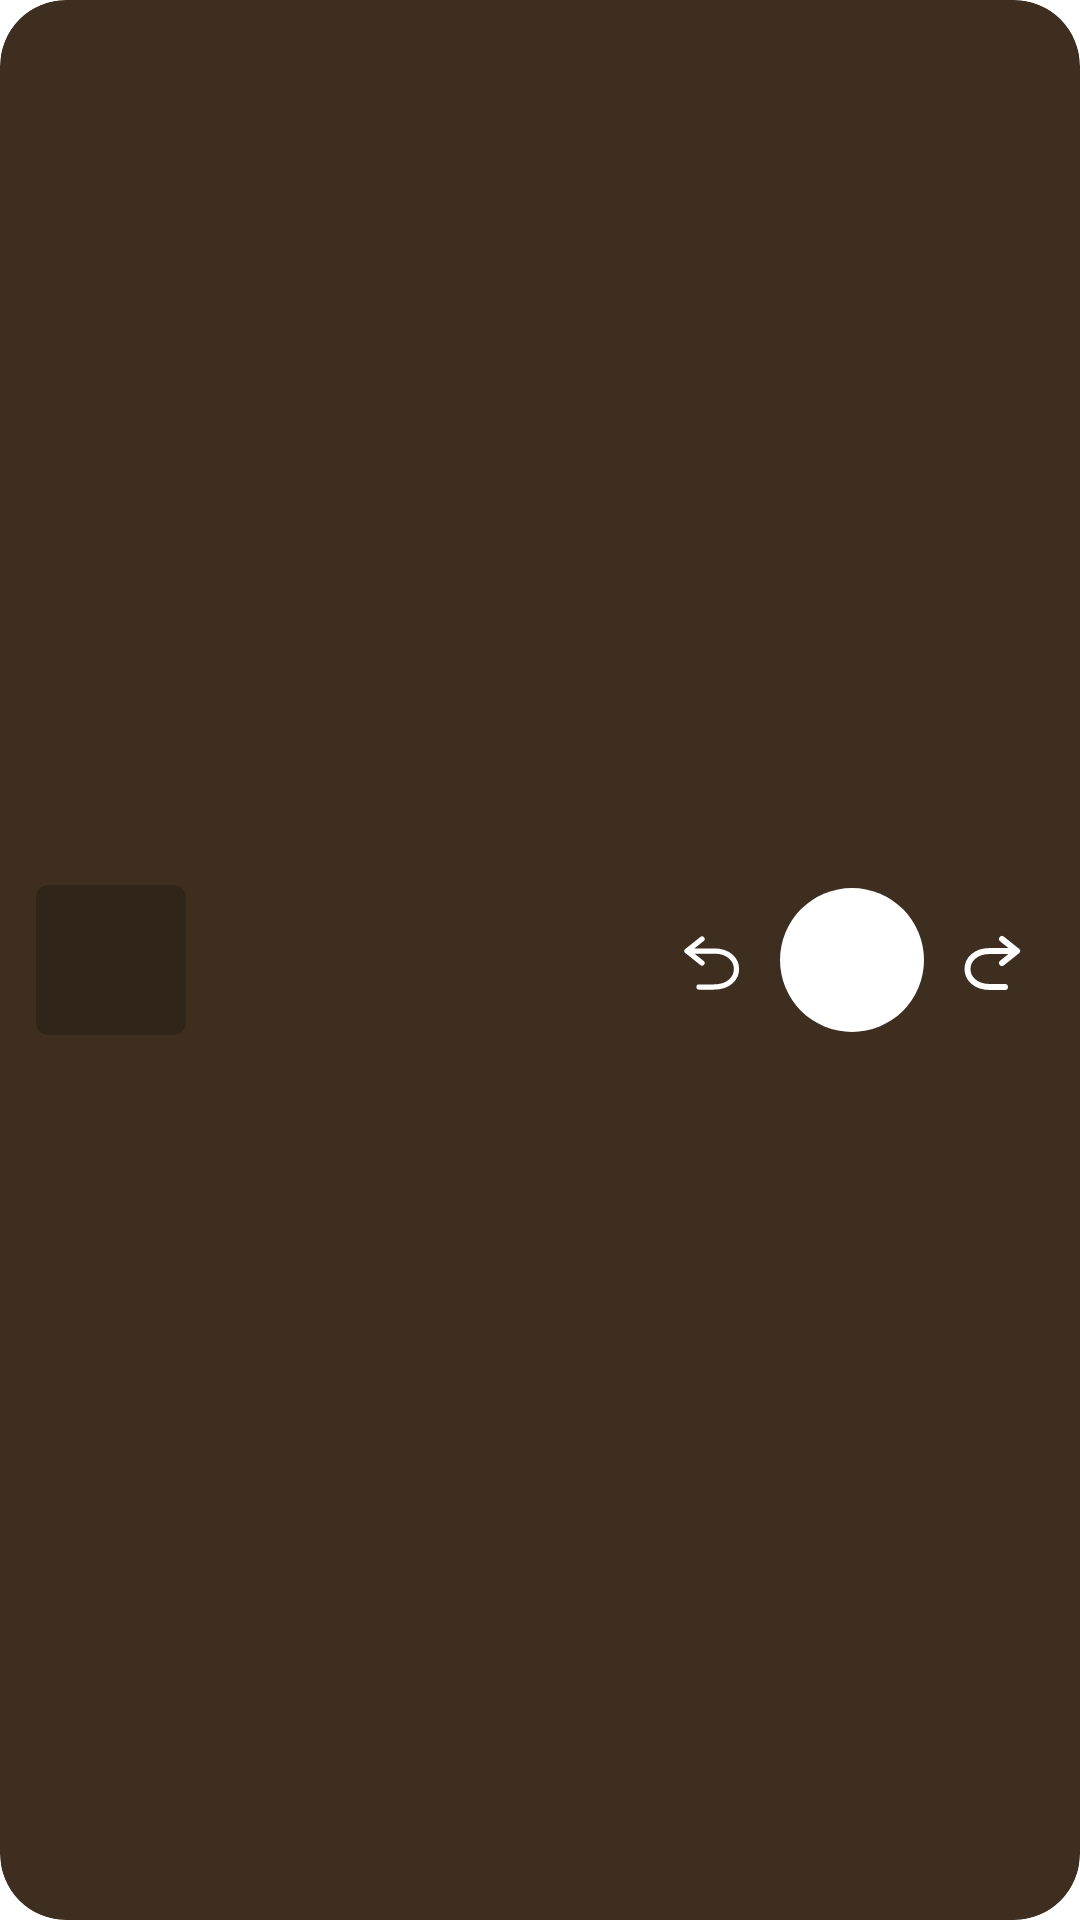

Where to tap for icons on this 1080*1920 app screen, as (x=x, y=y):
Forward: (x=992, y=963)
Rewind: (x=711, y=963)
